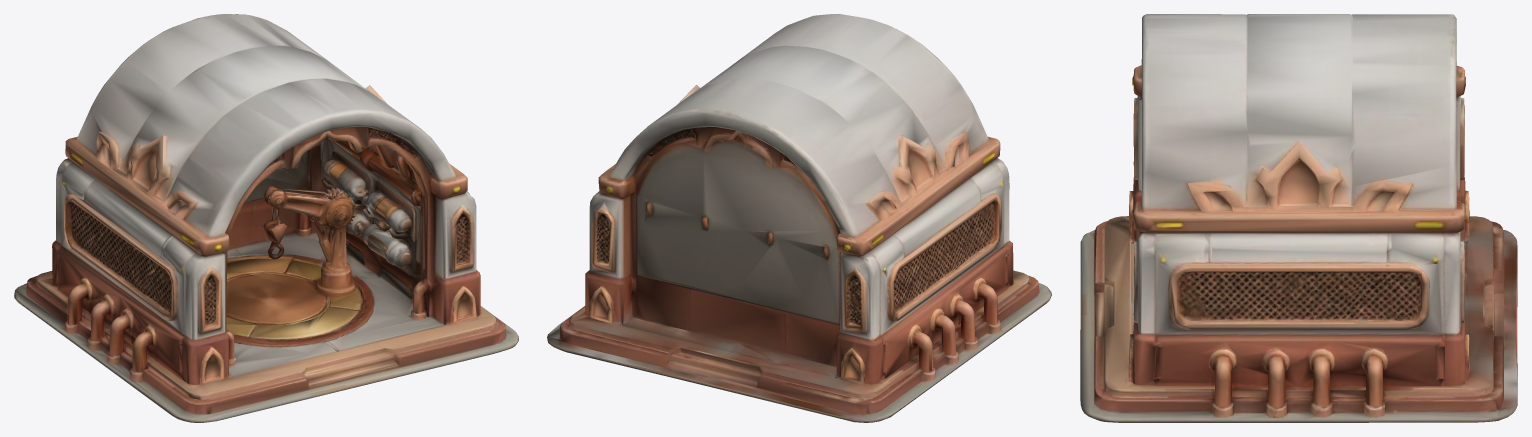
Rendered from vehicle_bay.glb.
3 renders of one model, left to right at view 1: azimuth 30°, elevation 25°; view 2: azimuth 150°, elevation 25°; view 3: azimuth 270°, elevation 25°, orthographic. The views are drawn at different scales.
Visible parts, largest first — view 1: node_0; view 2: node_0; view 3: node_0.
Boxes of the visible parts, box(x1,y1,x2,y2) form: node_0: box(14, 14, 518, 422); node_0: box(547, 14, 1051, 422); node_0: box(1080, 14, 1517, 422).
Size of the model in its own units: 6.37 by 4.5 by 6.03.
1 material, 1 textured.
